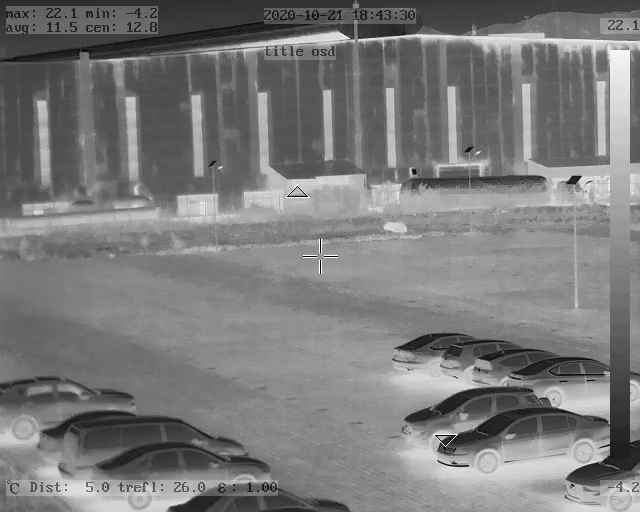vehicle: (89, 443, 276, 503), (434, 409, 610, 470), (59, 418, 237, 478), (4, 379, 141, 438), (402, 384, 532, 440), (506, 355, 617, 404), (558, 444, 640, 510), (464, 346, 543, 385), (439, 339, 512, 379), (391, 331, 462, 372)
